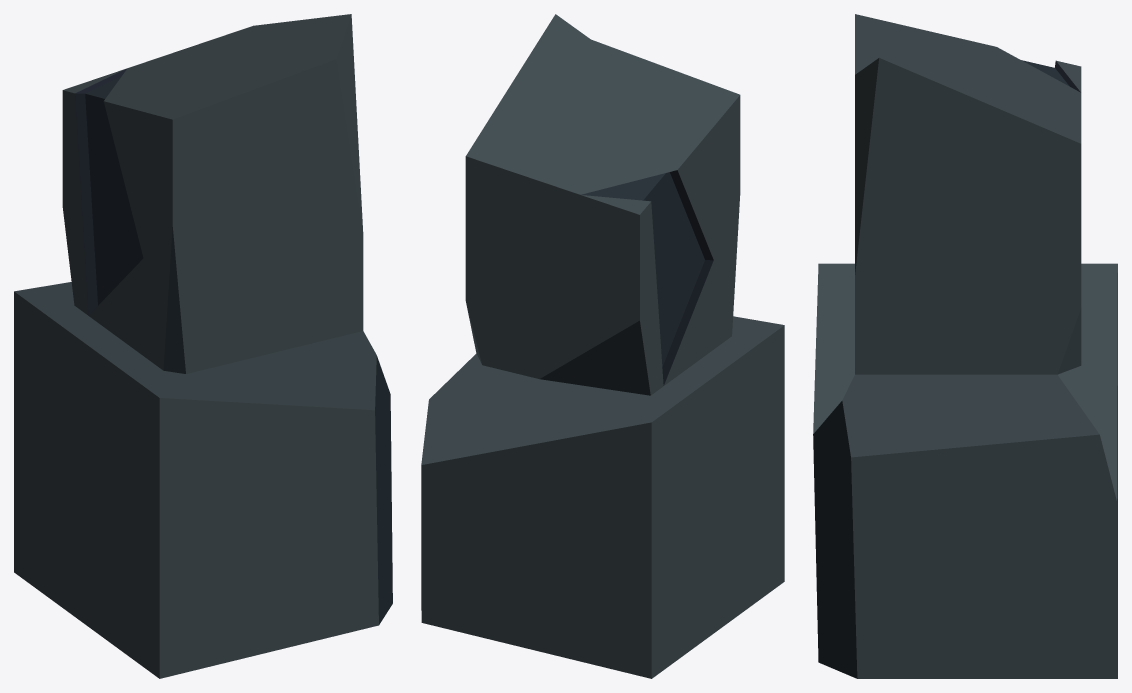
File: Pilar belah 1.fbx
The picture shows the model from 3 angles, left to right: view 1: azimuth 30°, elevation 25°; view 2: azimuth 150°, elevation 25°; view 3: azimuth 270°, elevation 25°; orthographic projection. The views are drawn at different scales.
Visible parts, largest first — view 1: Cube.012; view 2: Cube.012; view 3: Cube.012.
Boxes of the visible parts, x1,y1,x2,y2 form: Cube.012: (14,14,392,678); Cube.012: (421,14,784,678); Cube.012: (813,14,1117,678).
Size of the model in its own units: 2.65 by 5.91 by 2.69.
